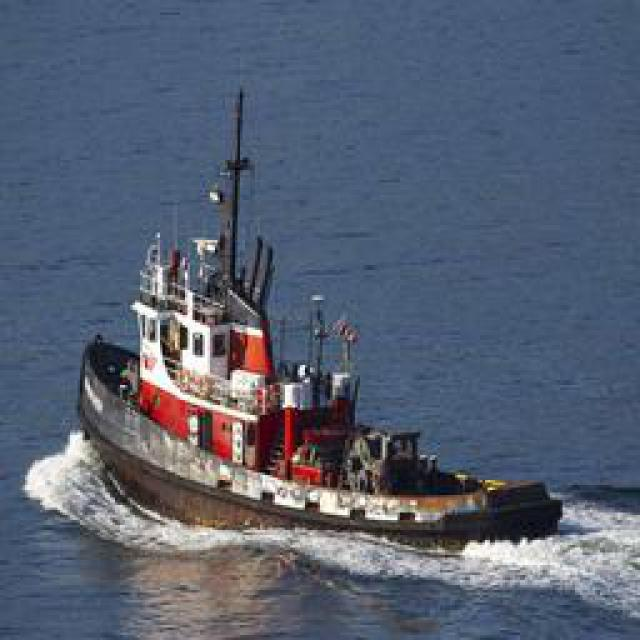Ship: (68, 70, 563, 555)
